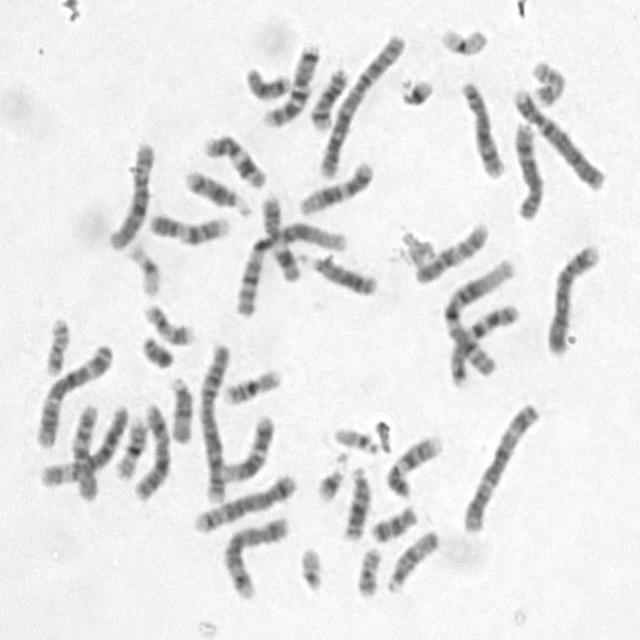A1: (230, 217, 350, 319), (440, 252, 518, 384)
A2: (314, 28, 408, 180), (197, 337, 234, 506)
A3: (458, 396, 543, 536), (31, 337, 116, 450)
B4: (509, 82, 608, 192), (543, 238, 603, 357)
B5: (190, 468, 300, 534), (218, 510, 292, 601)
C10: (410, 216, 492, 286), (67, 398, 102, 502)
C11: (258, 188, 306, 284), (198, 128, 268, 189)
C12: (294, 155, 376, 217), (218, 409, 276, 484)
C6: (34, 400, 131, 489), (103, 136, 157, 251)
C7: (445, 298, 522, 387), (258, 38, 322, 129)
C8: (456, 75, 507, 179), (507, 116, 545, 221)
C9: (382, 430, 446, 499), (144, 207, 232, 246)
D13: (296, 247, 380, 297), (340, 459, 372, 542)
D14: (180, 163, 256, 218), (306, 63, 352, 131)
D15: (382, 524, 442, 595), (164, 371, 196, 445)
E16: (220, 362, 284, 407), (110, 412, 151, 480)
E17: (140, 297, 198, 347), (526, 55, 568, 108)
E18: (366, 500, 419, 544), (240, 60, 292, 101)
F19: (123, 238, 163, 297), (436, 21, 490, 57)
F20: (40, 312, 72, 376), (352, 542, 384, 599)
G21: (312, 451, 350, 504), (396, 72, 436, 108)
G22: (329, 422, 382, 455), (296, 540, 326, 592)
X: (131, 398, 174, 502)
Y: (138, 329, 177, 370)
